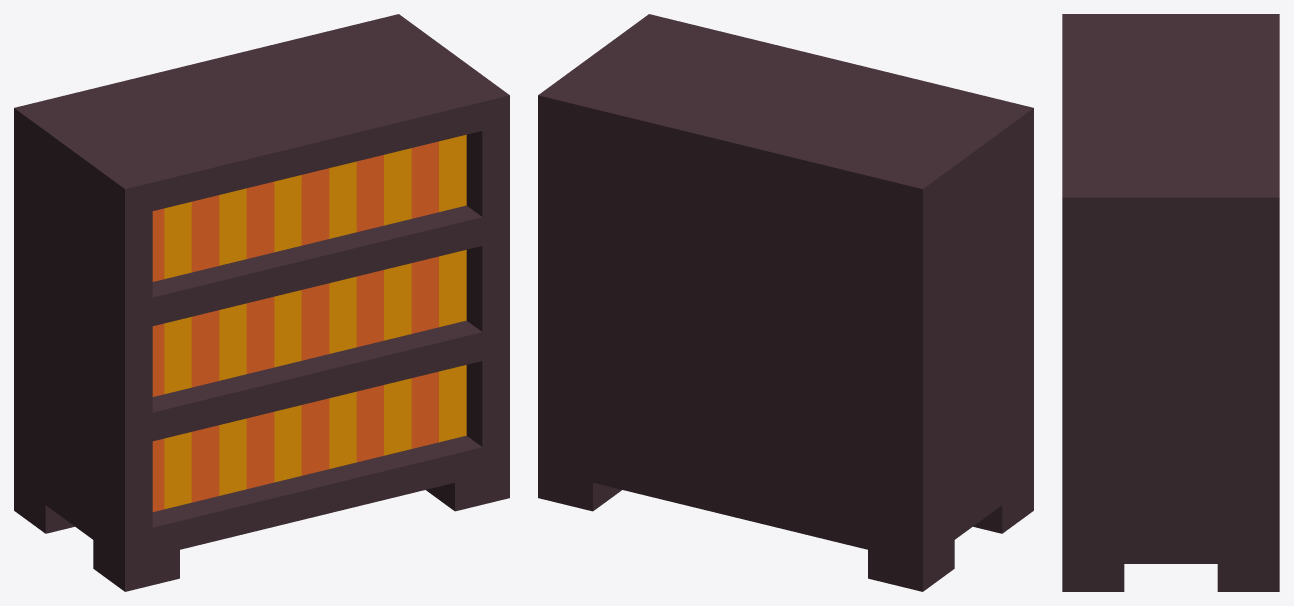
File: large_bookcase_c_yellow.obj
The picture shows the model from 3 angles, left to right: view 1: azimuth 30°, elevation 25°; view 2: azimuth 150°, elevation 25°; view 3: azimuth 270°, elevation 25°; orthographic projection. The views are drawn at different scales.
Bounding box in the file's own units: 1.4 × 1.4 × 0.7.
1 material, 1 textured.
